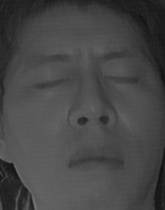blink: (29, 69, 70, 97), (102, 64, 141, 93)
mouth: (64, 140, 130, 178)
